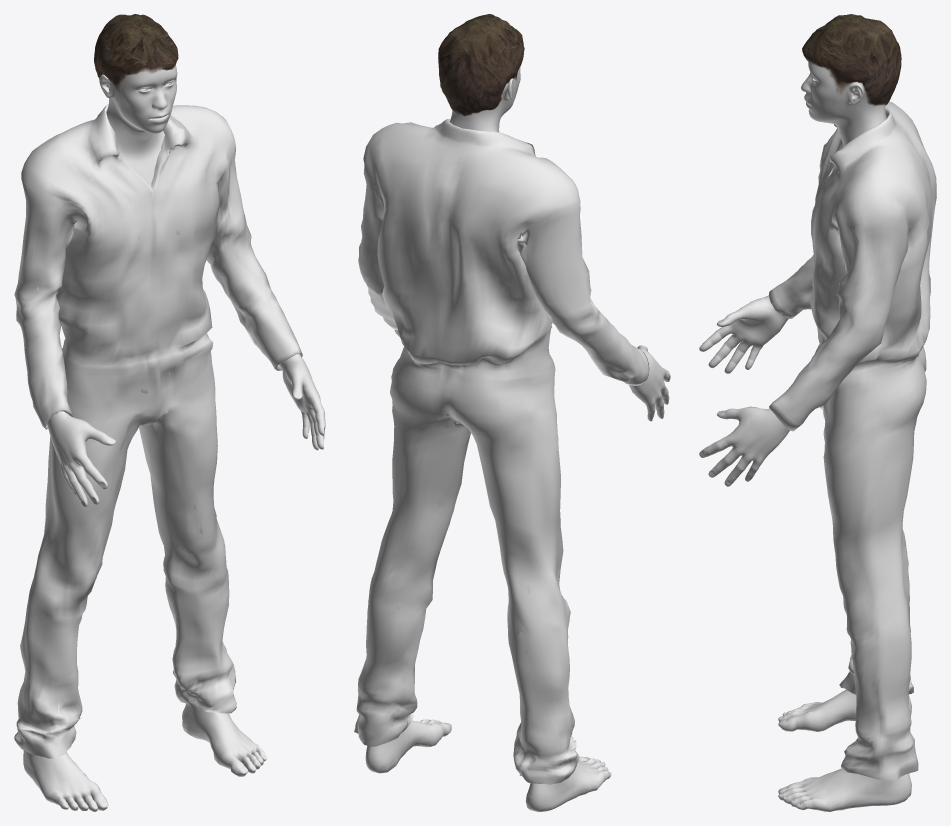
File: hombre.glb
3 renders of one model, left to right at view 1: azimuth 30°, elevation 25°; view 2: azimuth 150°, elevation 25°; view 3: azimuth 270°, elevation 25°, orthographic.
Parts seen in each view (by area): view 1: prenda, cuerpo, pelo; view 2: prenda, cuerpo, pelo; view 3: prenda, cuerpo, pelo.
Part boxes in pixels (x1=…): prenda: x1=14, y1=104, x2=302, y2=758; cuerpo: x1=23, y1=65, x2=325, y2=811; pelo: x1=94, y1=14, x2=178, y2=90; prenda: x1=354, y1=119, x2=649, y2=784; cuerpo: x1=365, y1=66, x2=670, y2=811; pelo: x1=438, y1=14, x2=524, y2=116; prenda: x1=769, y1=101, x2=936, y2=780; cuerpo: x1=699, y1=60, x2=911, y2=811; pelo: x1=802, y1=14, x2=901, y2=105.
Size of the model in its own units: 0.7556 by 2.09 by 0.6051.
Materials: 3 (1 with a texture image).
